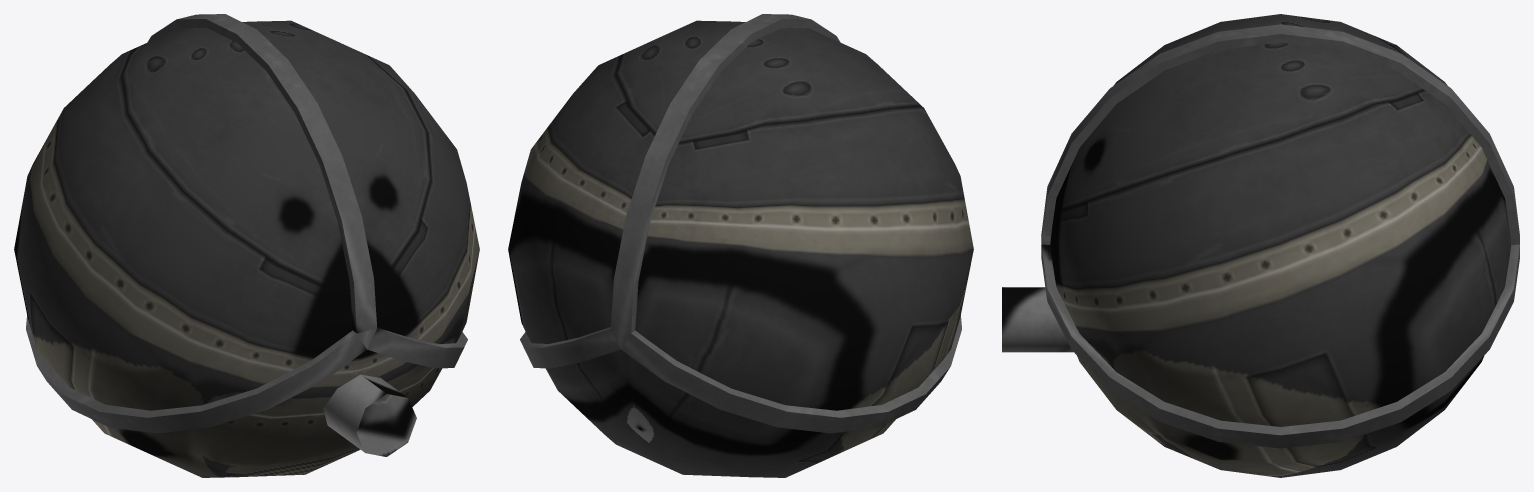
File: small_rad.fbx
3 renders of one model, left to right at view 1: azimuth 30°, elevation 25°; view 2: azimuth 150°, elevation 25°; view 3: azimuth 270°, elevation 25°, orthographic.
Parts seen in each view (by area): view 1: mesh; view 2: mesh; view 3: mesh.
Boxes of the visible parts, x1,y1,x2,y2 form: mesh: (14, 14, 479, 477); mesh: (508, 14, 973, 477); mesh: (1002, 14, 1519, 477).
Size of the model in its own units: 0.25 by 0.2538 by 0.2788.
